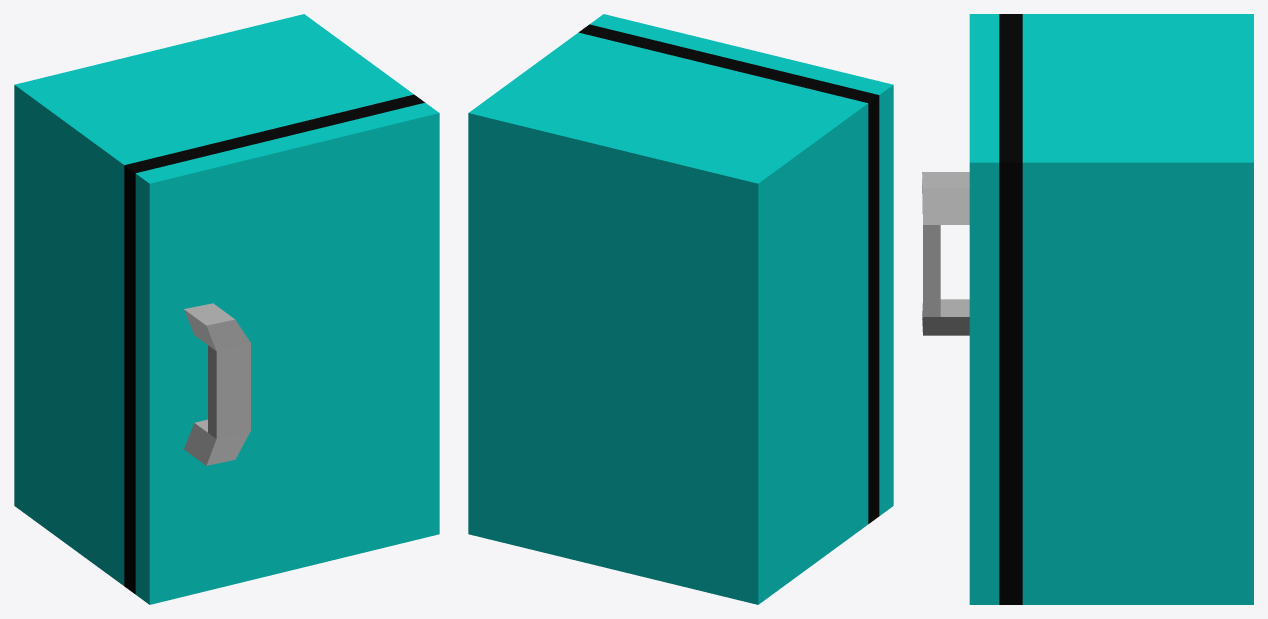
The model's file is Almacenas.fbx.
The picture shows the model from 3 angles, left to right: view 1: azimuth 30°, elevation 25°; view 2: azimuth 150°, elevation 25°; view 3: azimuth 270°, elevation 25°; orthographic projection. The views are drawn at different scales.
Visible parts, largest first — view 1: AlmacenDer; view 2: AlmacenDer; view 3: AlmacenDer.
Part boxes in pixels (<box>): AlmacenDer: <box>14,14,439,604</box>; AlmacenDer: <box>468,14,893,604</box>; AlmacenDer: <box>922,14,1253,604</box>.
Size of the model in its own units: 200 by 278 by 189.
